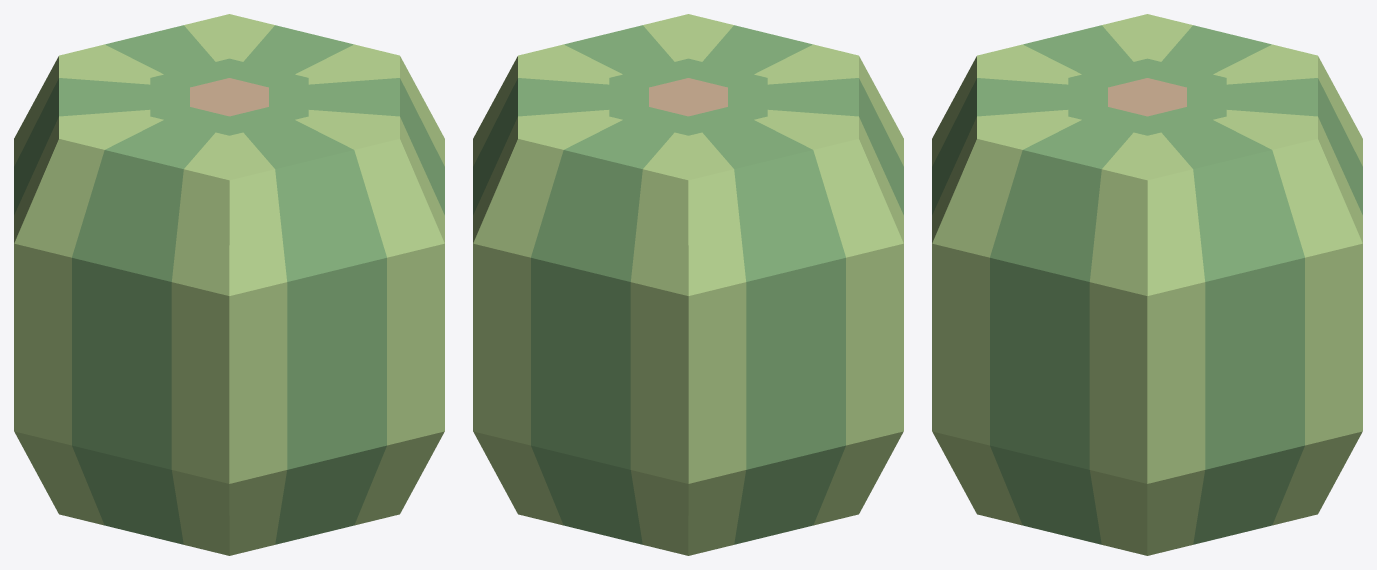
Rendered from crop_melon.glb.
The picture shows the model from 3 angles, left to right: view 1: azimuth 30°, elevation 25°; view 2: azimuth 150°, elevation 25°; view 3: azimuth 270°, elevation 25°; orthographic projection.
Visible parts, largest first — view 1: crop_melon; view 2: crop_melon; view 3: crop_melon.
Part boxes in pixels (bbox=[...]): crop_melon: bbox=[14, 14, 444, 555]; crop_melon: bbox=[473, 14, 903, 555]; crop_melon: bbox=[932, 14, 1362, 555].
Size of the model in its own units: 0.4176 by 0.348 by 0.3617.
